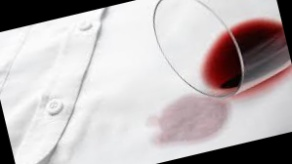wine: (143, 82, 238, 150)
